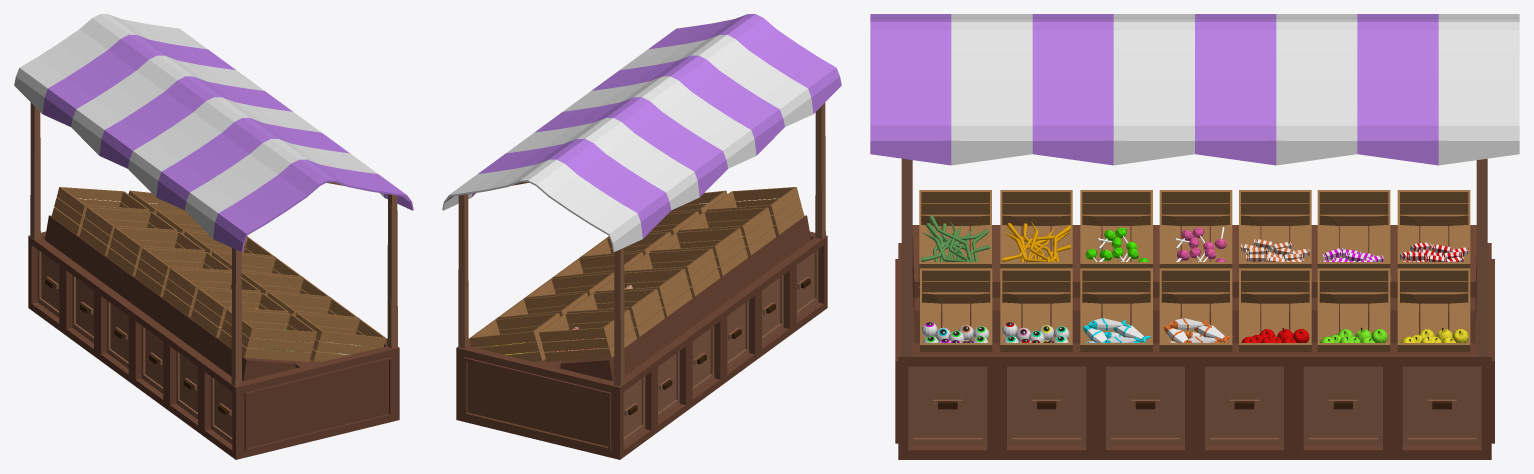
Rendered from puestoIngredientes4.fbx.
The picture shows the model from 3 angles, left to right: view 1: azimuth 30°, elevation 25°; view 2: azimuth 150°, elevation 25°; view 3: azimuth 270°, elevation 25°; orthographic projection. The views are drawn at different scales.
Visible parts, largest first — view 1: Base, ToldoColor, ToldoBlanco, Cajones, Postes, Cube.2398, Cube.2391, Cube.2404, Cube.2402, Cube.2401, Cube.2403, Cube.2400 (+8 smaller); view 2: Base, ToldoBlanco, ToldoColor, Cajones, Postes, Cube.2404, Cube.2397, Cube.2398, Cube.2399, Cube.2401, Cube.2400, Cube.2403 (+8 smaller); view 3: ToldoColor, ToldoBlanco, Cajones, Base, Cube.2396, Cube.2397, Cube.2395, Cube.2403, Cube.2392, Cube.2391, Cube.2394, Cube.2393 (+8 smaller).
Boxes of the visible parts, x1,y1,x2,y2 form: Base: (28, 204, 399, 459); ToldoColor: (42, 34, 413, 251); ToldoBlanco: (14, 14, 383, 238); Cajones: (37, 250, 232, 444); Postes: (30, 102, 397, 386); Cube.2398: (219, 309, 316, 361); Cube.2391: (295, 313, 386, 361); Cube.2404: (51, 187, 149, 235); Cube.2402: (107, 227, 205, 275); Cube.2401: (135, 248, 231, 296); Cube.2403: (79, 207, 177, 255); Cube.2400: (162, 268, 260, 316); Base: (456, 204, 827, 459); ToldoBlanco: (442, 34, 813, 251); ToldoColor: (472, 14, 841, 238); Cajones: (623, 250, 818, 444); Postes: (458, 102, 825, 386); Cube.2404: (539, 309, 636, 361); Cube.2397: (469, 313, 559, 361); Cube.2398: (706, 187, 804, 235); Cube.2399: (678, 207, 775, 255); Cube.2401: (624, 248, 720, 296); Cube.2400: (650, 228, 747, 276); Cube.2403: (567, 289, 664, 337); ToldoColor: (870, 14, 1438, 165); ToldoBlanco: (951, 14, 1519, 165); Cajones: (908, 366, 1481, 446); Base: (895, 225, 1494, 459); Cube.2396: (1317, 268, 1390, 351); Cube.2397: (1397, 268, 1470, 351); Cube.2395: (1239, 268, 1311, 351); Cube.2403: (1317, 190, 1390, 268); Cube.2392: (1000, 268, 1072, 351); Cube.2391: (920, 268, 992, 351); Cube.2394: (1159, 268, 1232, 351); Cube.2393: (1080, 268, 1152, 351).
Size of the model in its own units: 720 by 1065 by 1645.
